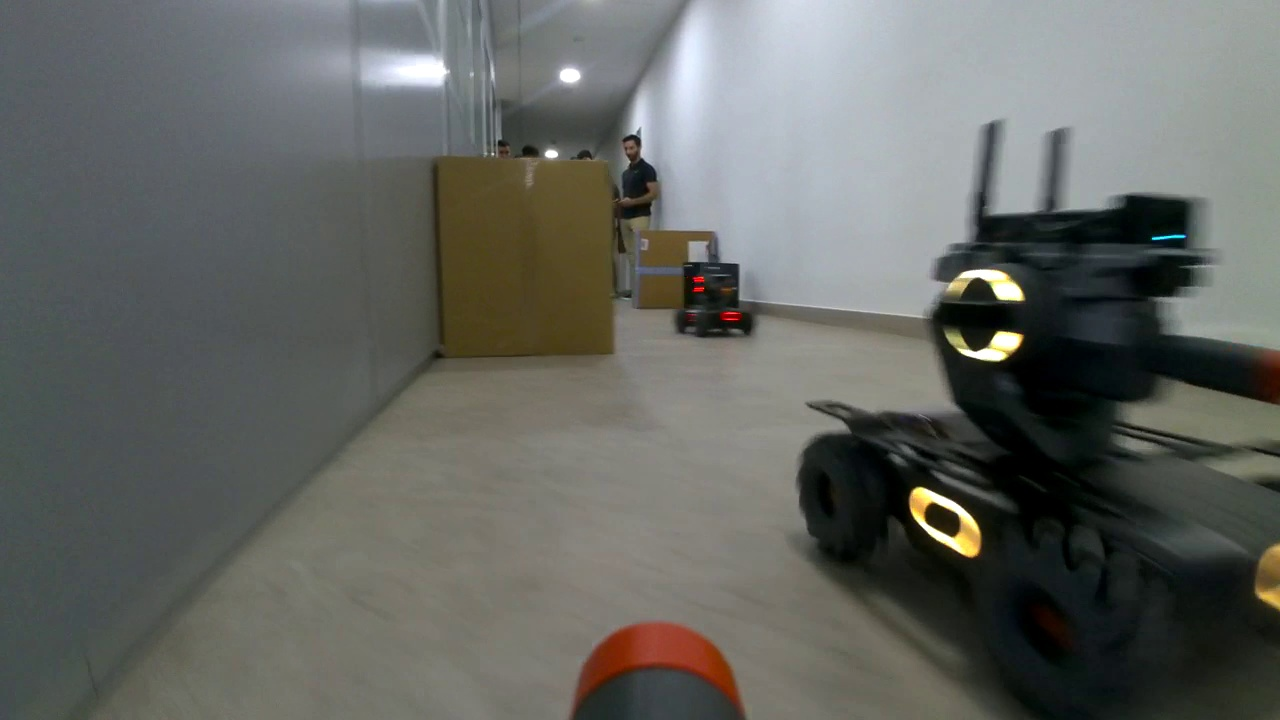robot: (793, 190, 1280, 714), (676, 263, 752, 340)
